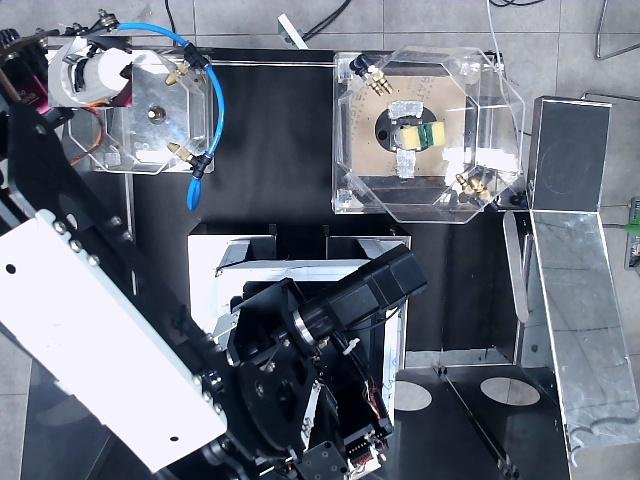cup: (48, 36, 132, 107), (46, 42, 132, 109)
